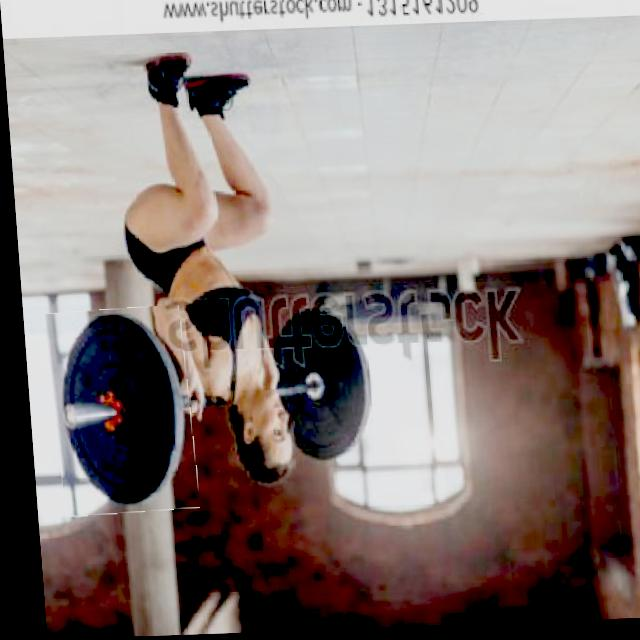barbell: (41, 308, 192, 517)
